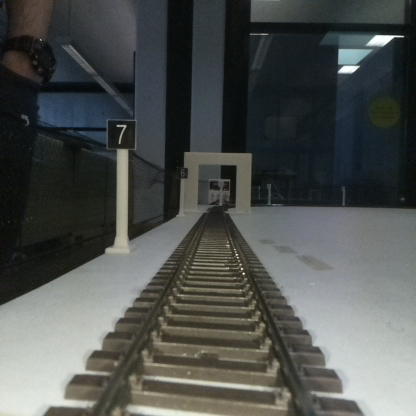black-info-6: (177, 167, 188, 218)
black-info-7: (107, 119, 136, 251)
